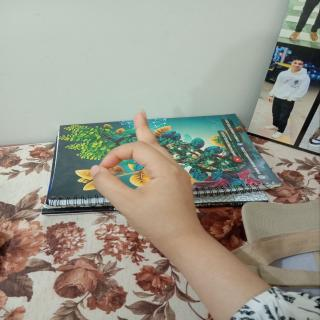Space: (89, 108, 214, 259)
